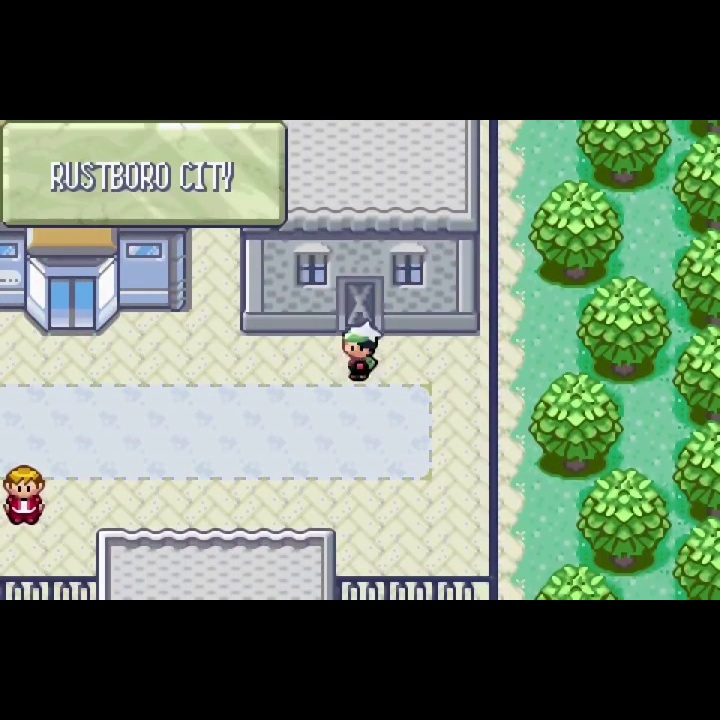gym: (1, 224, 193, 339)
house: (238, 120, 482, 336), (95, 527, 338, 600)
npc: (2, 461, 50, 528), (341, 319, 383, 383)
wall: (575, 468, 673, 579), (576, 275, 673, 384), (530, 372, 627, 481), (529, 181, 625, 290), (574, 120, 673, 193), (672, 325, 720, 425), (672, 227, 720, 323), (673, 135, 720, 230), (674, 421, 720, 517), (672, 515, 720, 600), (531, 563, 622, 600), (673, 121, 720, 141)
